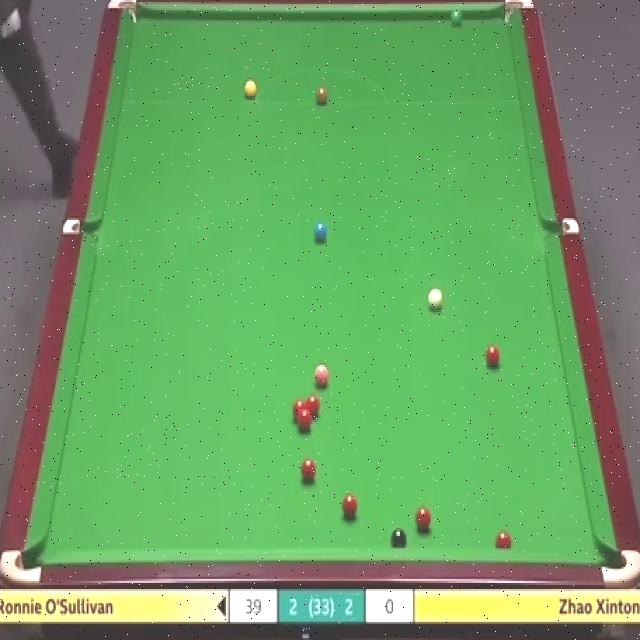black-ball: (391, 527, 407, 549)
blue-ball: (312, 221, 329, 242)
brown-ball: (316, 83, 328, 104)
green-ball: (450, 6, 461, 25)
pink-ball: (315, 362, 330, 388)
red-ball: (414, 507, 432, 535), (301, 453, 318, 482), (342, 492, 359, 521), (484, 344, 500, 370), (292, 399, 306, 425), (493, 529, 512, 547), (306, 395, 320, 419), (298, 412, 313, 432)
white-ball: (426, 284, 444, 312)
yellow-ball: (243, 82, 256, 98)
